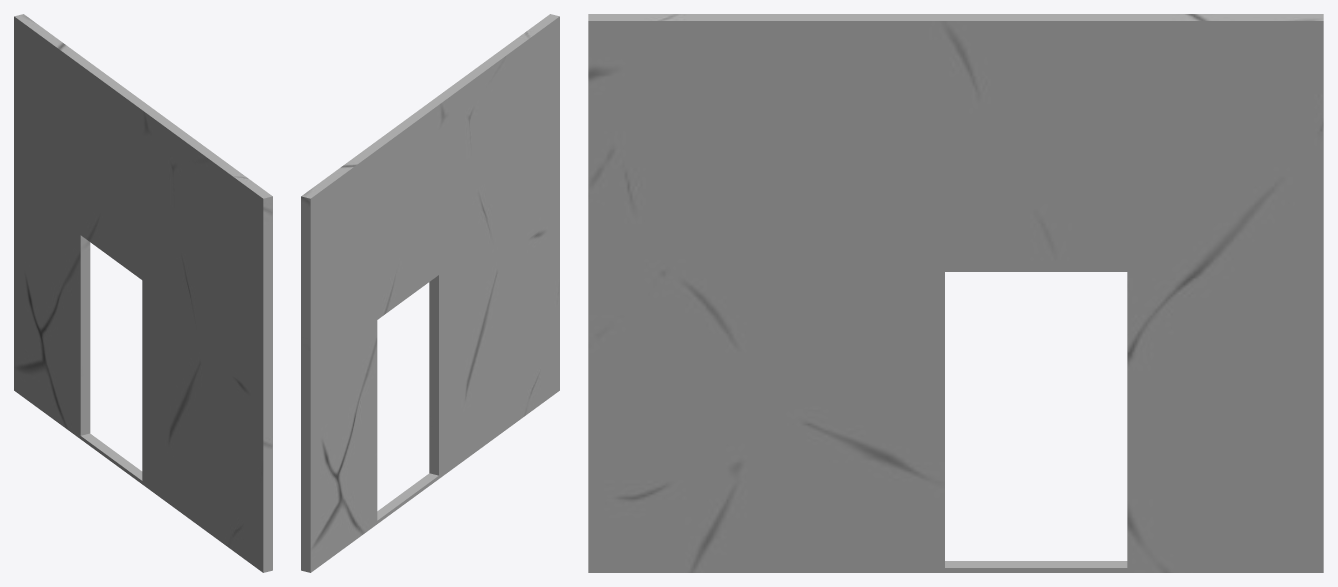
Rendered from duvar4.fbx.
3 renders of one model, left to right at view 1: azimuth 30°, elevation 25°; view 2: azimuth 150°, elevation 25°; view 3: azimuth 270°, elevation 25°, orthographic. The views are drawn at different scales.
Parts seen in each view (by area): view 1: Cube_8.005; view 2: Cube_8.005; view 3: Cube_8.005.
Part boxes in pixels (x1,y1,x2,y2): Cube_8.005: (14, 14, 272, 572); Cube_8.005: (301, 14, 559, 572); Cube_8.005: (588, 14, 1323, 572).
Bounding box in the file's own units: 11.88 × 442 × 534.
